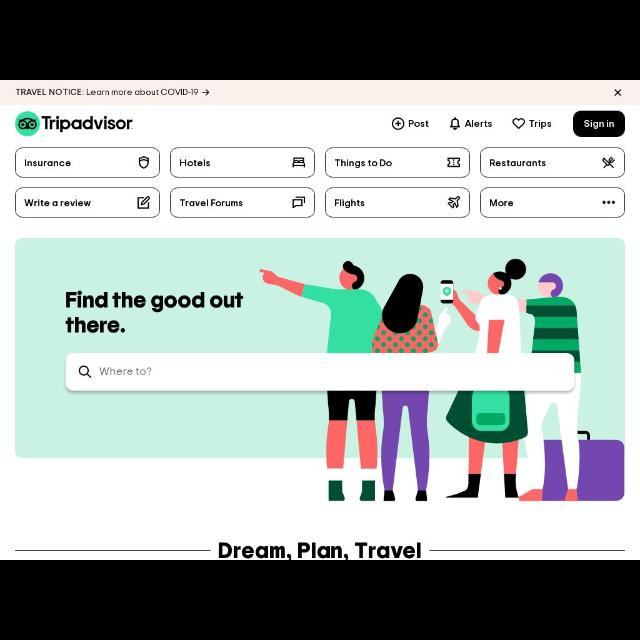backgroundimage: (14, 238, 624, 502)
icon: (137, 196, 151, 210), (292, 195, 306, 209), (448, 196, 462, 210), (602, 156, 616, 170), (78, 365, 92, 379), (391, 118, 405, 130), (512, 118, 526, 130), (447, 156, 461, 168), (451, 117, 462, 131), (138, 156, 150, 168), (292, 158, 306, 168), (602, 199, 616, 205), (614, 88, 622, 96), (201, 90, 209, 96)
image: (15, 112, 134, 136)
input: (64, 352, 576, 392)
multitab: (392, 118, 552, 130)
text: (65, 290, 244, 334), (15, 88, 199, 96), (24, 198, 92, 208), (178, 198, 244, 208), (334, 158, 392, 168), (98, 366, 152, 376), (24, 158, 72, 168), (489, 159, 546, 167), (179, 158, 211, 168), (584, 120, 614, 130), (334, 199, 364, 209), (528, 118, 552, 130), (490, 198, 514, 208), (465, 120, 493, 128), (408, 119, 430, 128)
textbutton: (170, 188, 314, 218), (326, 188, 470, 218), (16, 148, 160, 176), (171, 148, 315, 176), (326, 148, 470, 176), (481, 148, 625, 176), (15, 188, 159, 216), (480, 188, 624, 216), (574, 111, 626, 137)
